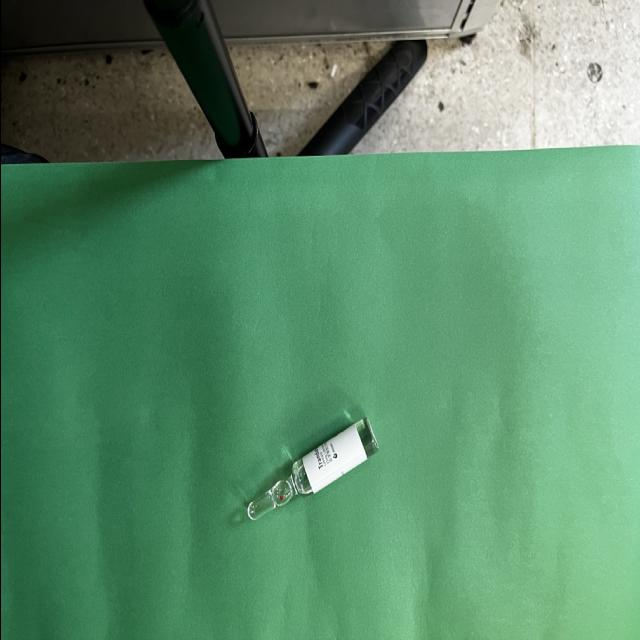Ampoules: (246, 418, 377, 520)
